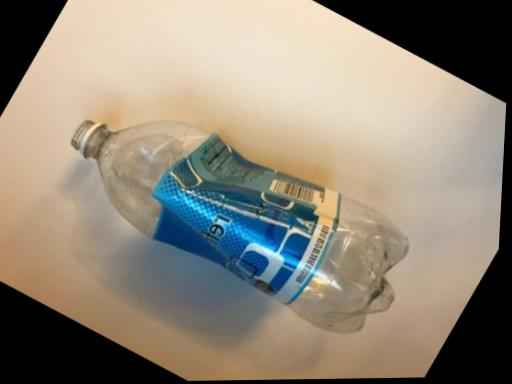plastic: (2, 22, 444, 380)
